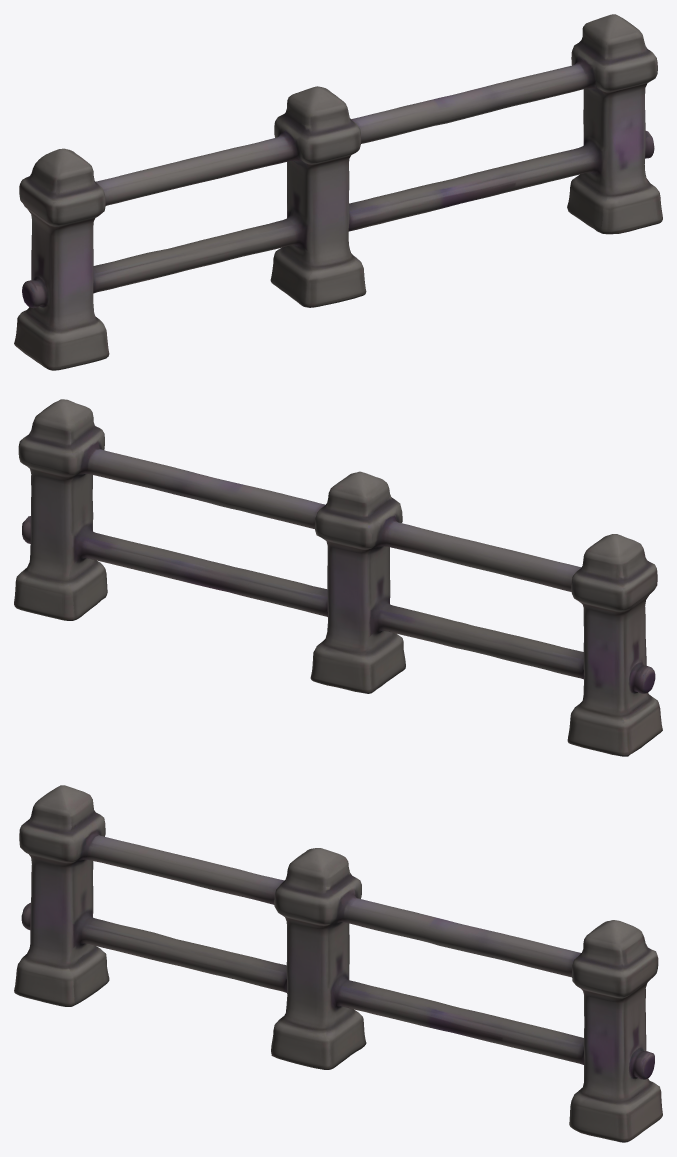
The model's file is SM_Utileria_Barandillas_01.fbx.
The picture shows the model from 3 angles, top to bottom: view 1: azimuth 30°, elevation 25°; view 2: azimuth 150°, elevation 25°; view 3: azimuth 330°, elevation 25°; orthographic projection.
Parts seen in each view (by area): view 1: SM_Utileria_Barandillas_01; view 2: SM_Utileria_Barandillas_01; view 3: SM_Utileria_Barandillas_01.
Boxes of the visible parts, left/top/right/bottom form: SM_Utileria_Barandillas_01: left=14, top=14, right=662, bottom=370; SM_Utileria_Barandillas_01: left=14, top=399, right=662, bottom=756; SM_Utileria_Barandillas_01: left=14, top=785, right=662, bottom=1142.
Bounding box in the file's own units: 0.9995 × 0.3094 × 0.116.
Materials: 1 (1 with a texture image).
